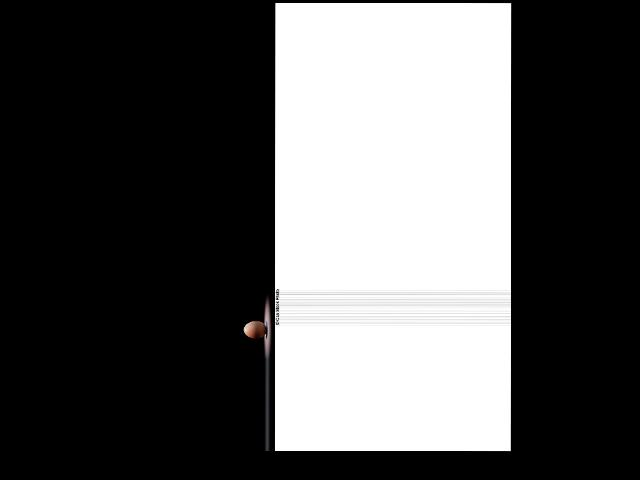egg: (244, 320, 267, 338)
